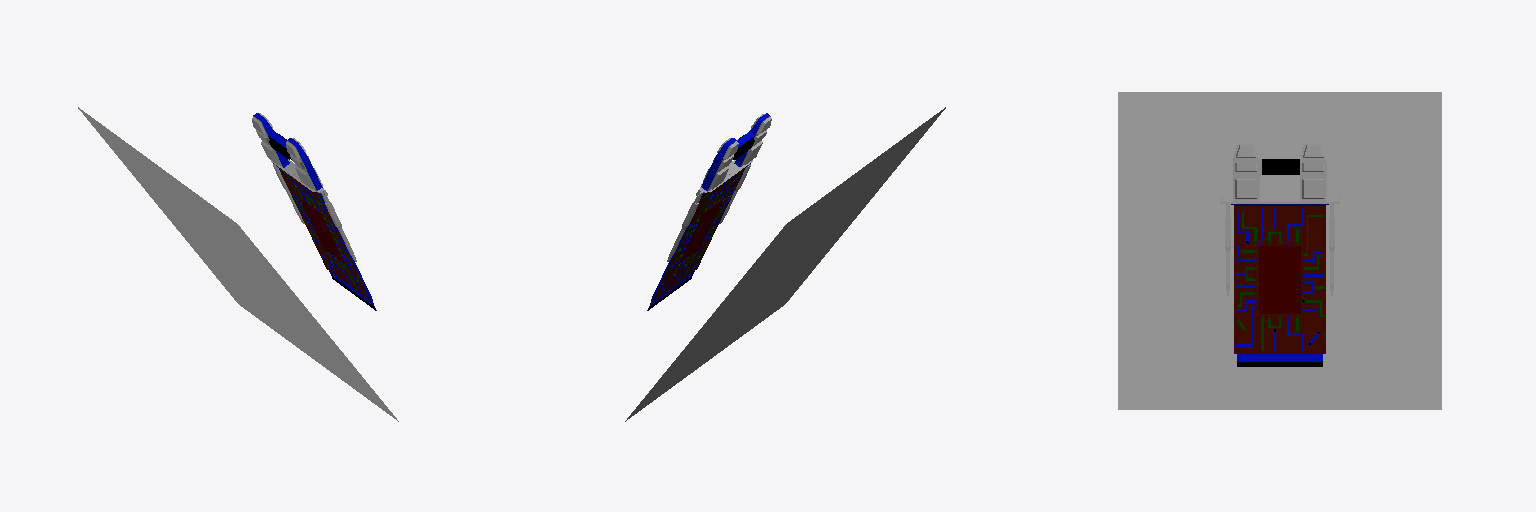
File: chip_key.obj
3 views of the same model, side by side, from view 1: azimuth 30°, elevation 25°; view 2: azimuth 150°, elevation 25°; view 3: azimuth 270°, elevation 25° (orthographic).
Parts seen in each view (by area): view 1: besi_Plane, chip_key_Cube; view 2: besi_Plane, chip_key_Cube; view 3: besi_Plane, chip_key_Cube.
Part boxes in pixels (left/top/right/bottom): besi_Plane: left=78, top=107, right=398, bottom=421; chip_key_Cube: left=252, top=113, right=376, bottom=310; besi_Plane: left=625, top=107, right=945, bottom=421; chip_key_Cube: left=647, top=113, right=771, bottom=310; besi_Plane: left=1118, top=92, right=1441, bottom=409; chip_key_Cube: left=1220, top=144, right=1339, bottom=366.
Size of the model in its own units: 10.26 by 12.16 by 14.48.